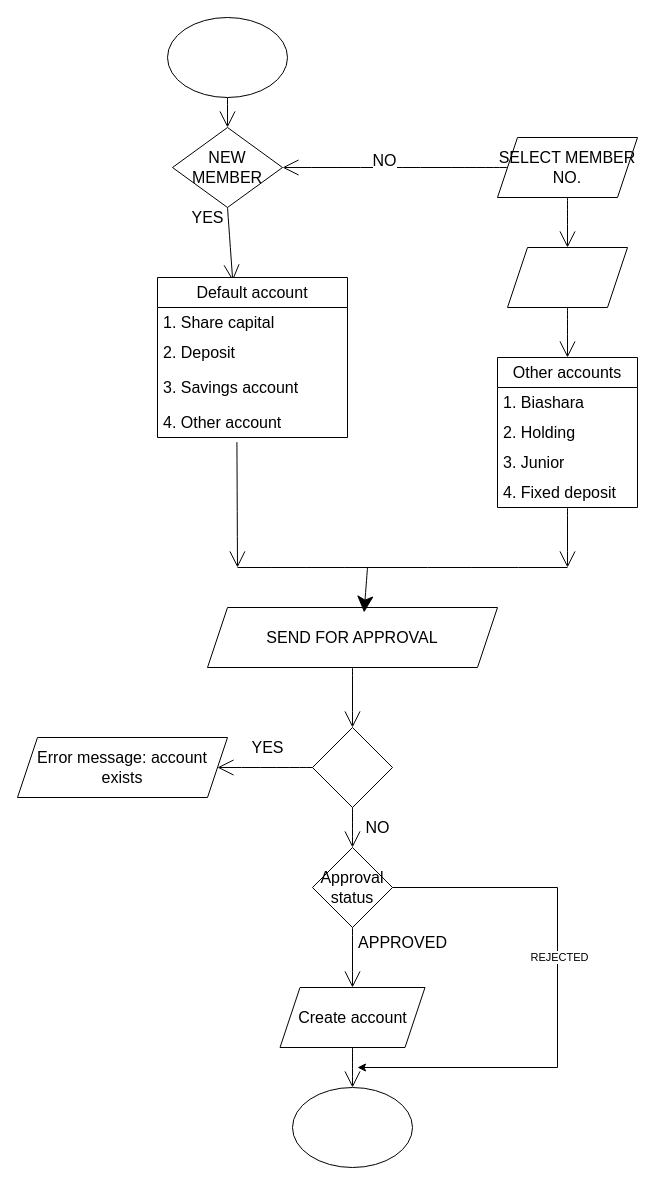
This 655x1185 diagram has some shape labels left out. Here are the shapes that lost their labels. From the top down, the centre of each, then its label:
At pixel 227 57: "START".
At pixel 567 277: "SELECT PRODUCT".
At pixel 352 767: "Account exists".
At pixel 352 1127: "STOP".
